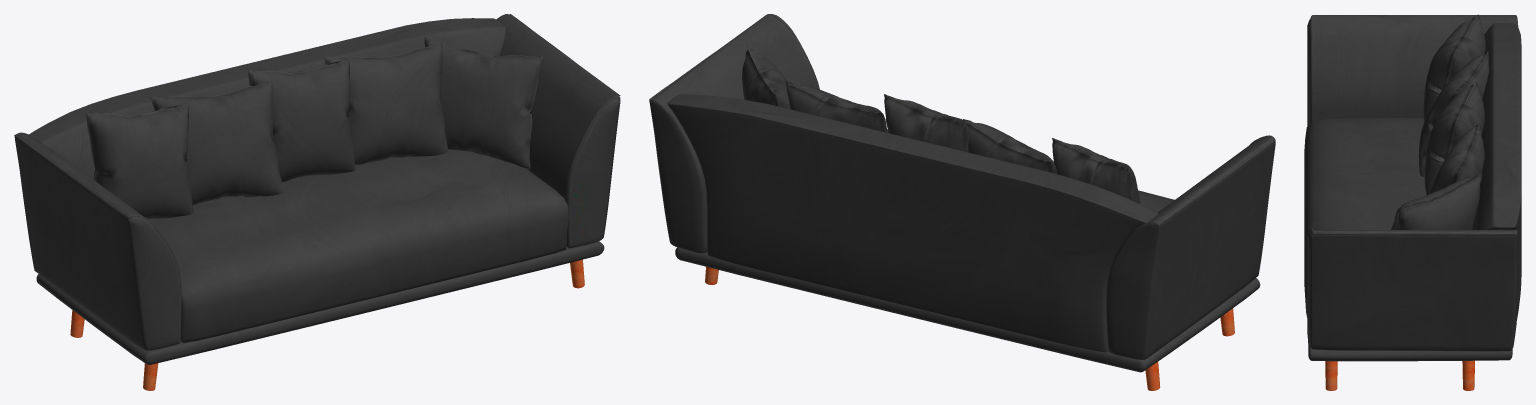
Rendered from graythreeseater.glb.
3 renders of one model, left to right at view 1: azimuth 30°, elevation 25°; view 2: azimuth 150°, elevation 25°; view 3: azimuth 270°, elevation 25°, orthographic. The views are drawn at different scales.
Parts seen in each view (by area): view 1: GLBsingle_seater; view 2: GLBsingle_seater; view 3: GLBsingle_seater.
Boxes of the visible parts, <box> form: GLBsingle_seater: <box>14,14,620,390</box>; GLBsingle_seater: <box>649,14,1275,390</box>; GLBsingle_seater: <box>1304,14,1521,390</box>.
Size of the model in its own units: 2.14 by 0.8997 by 0.8948.
1 material, 1 textured.
